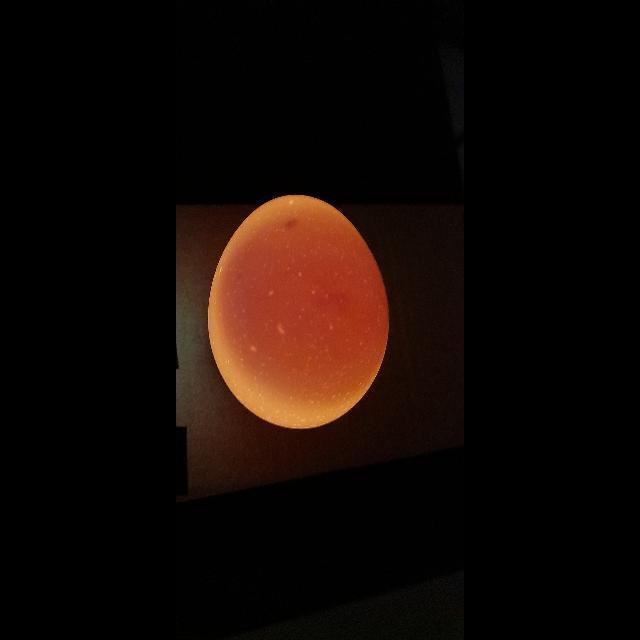Inedible: (196, 186, 400, 442)
